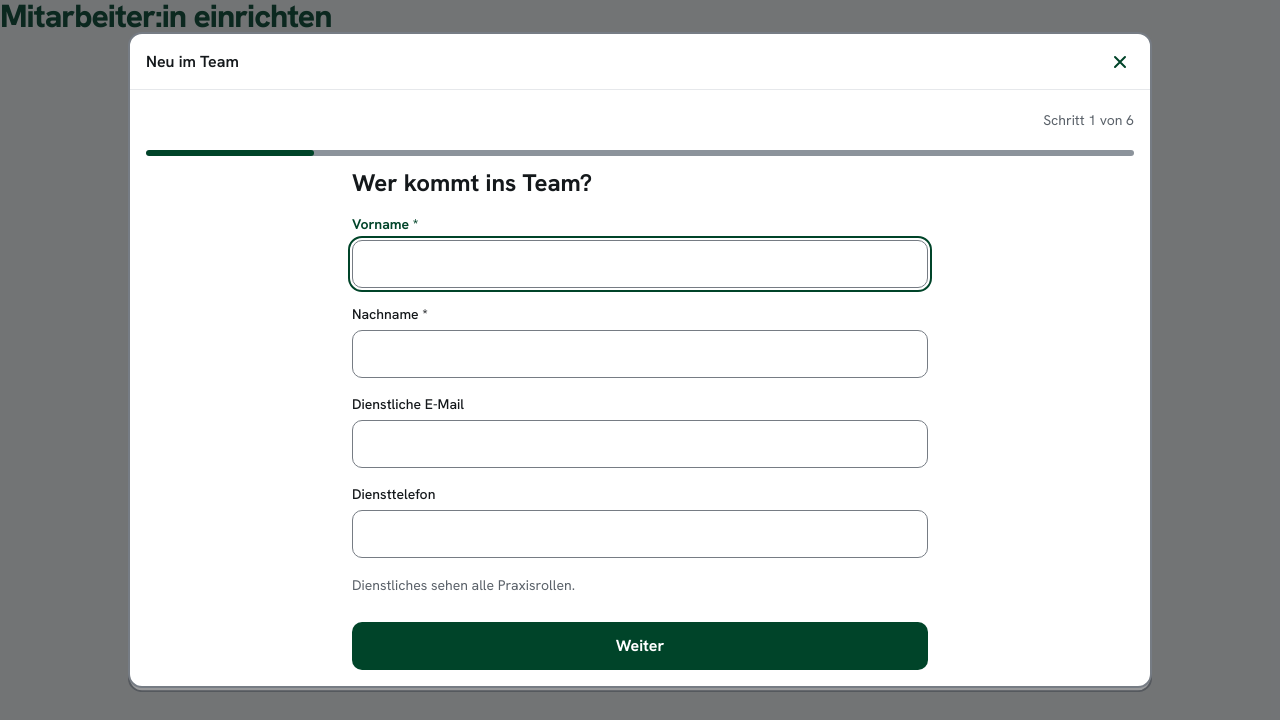
Test: NewStaffMemberPage: Neue:n Mitarbeiter:in einrichten (G5) › verlangt eine Rolle für „Weiter“ und geht mit „← Zurück“ zurück, ohne Eingaben zu verlieren
Type "Nina" into the field labelled "Vorname *" at (640, 264), box [352,240,928,288]
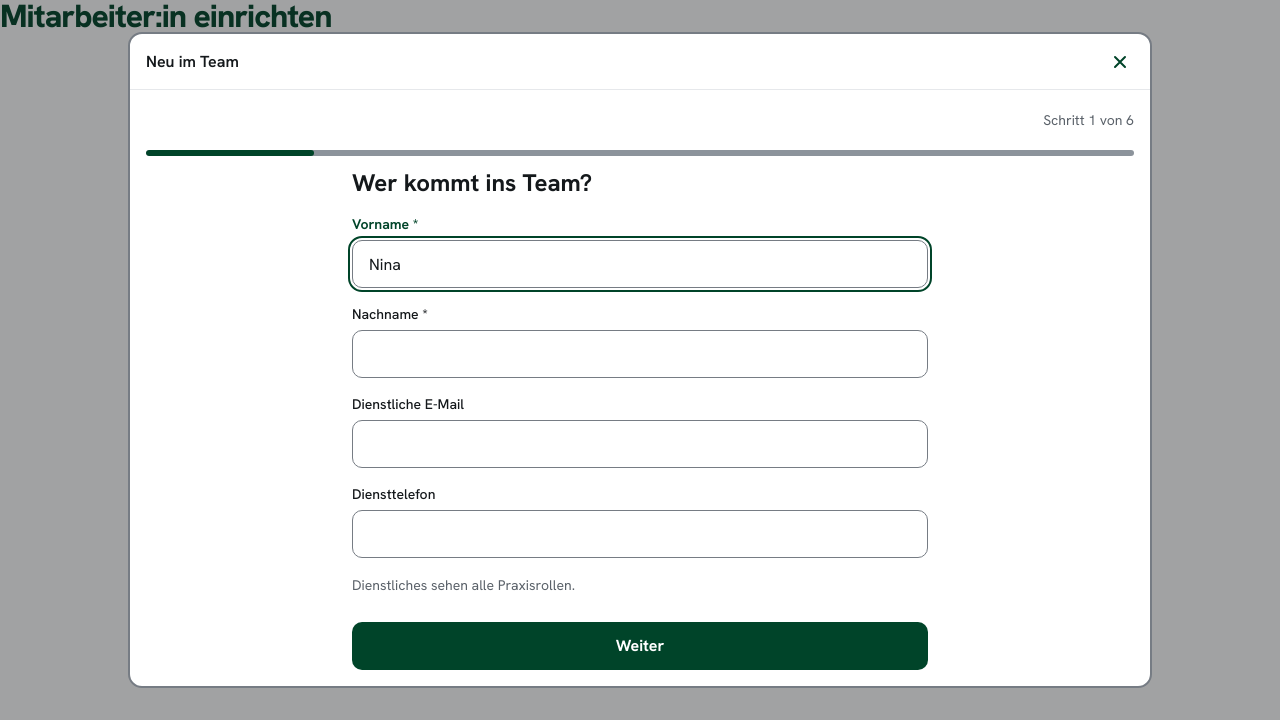
Type "Neu" into the field labelled "Nachname *" at (640, 354), box [352,330,928,378]
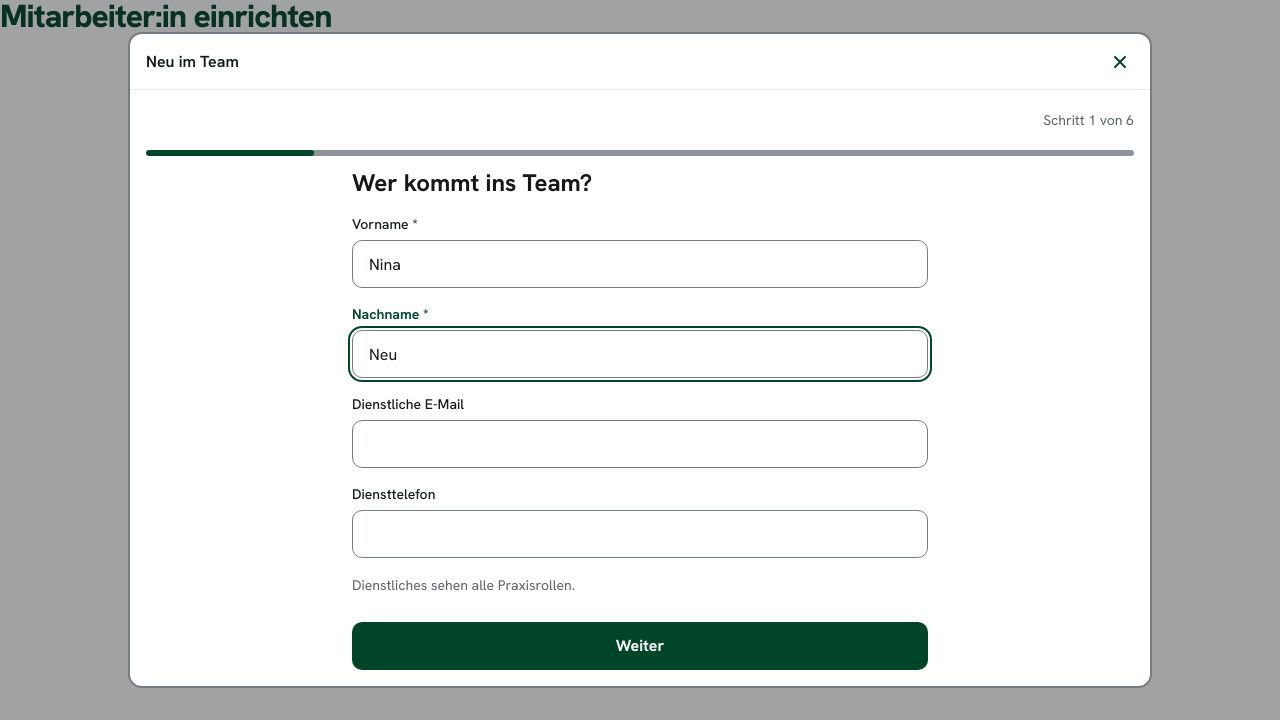
Click the button "Weiter" at (640, 646), box [352,622,928,670]
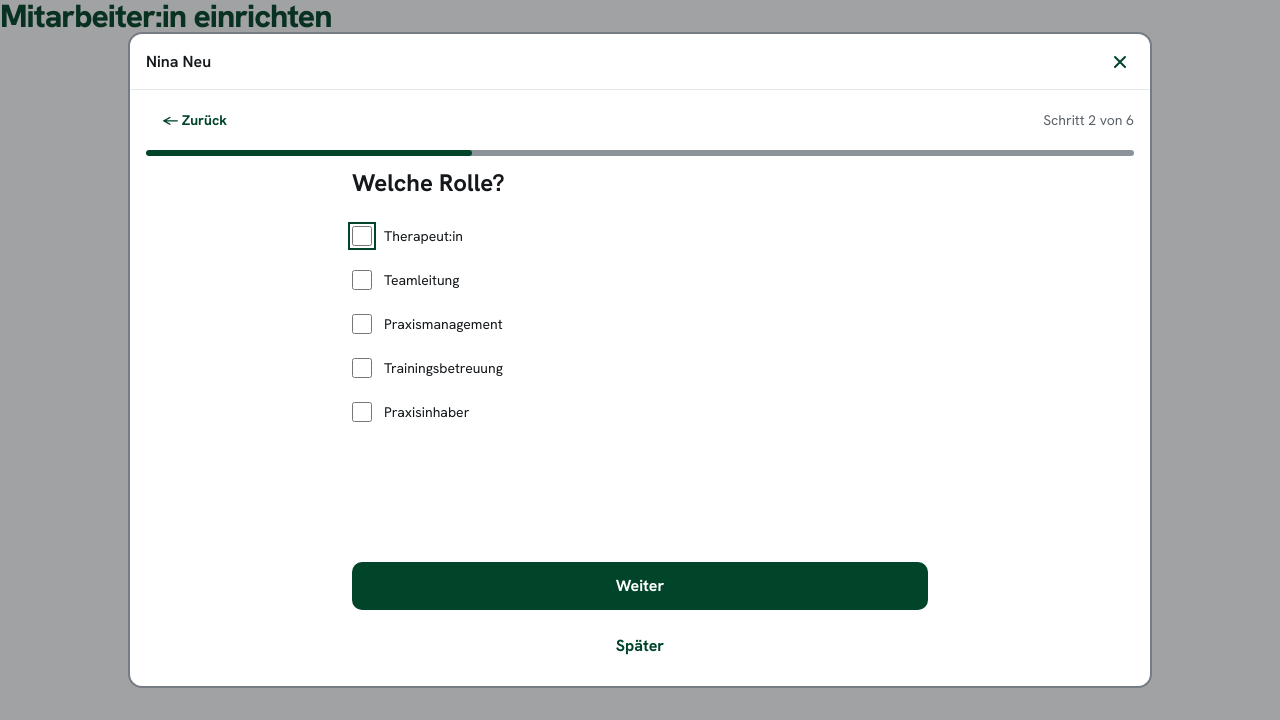
Click the button "Weiter" at (640, 586), box [352,562,928,610]
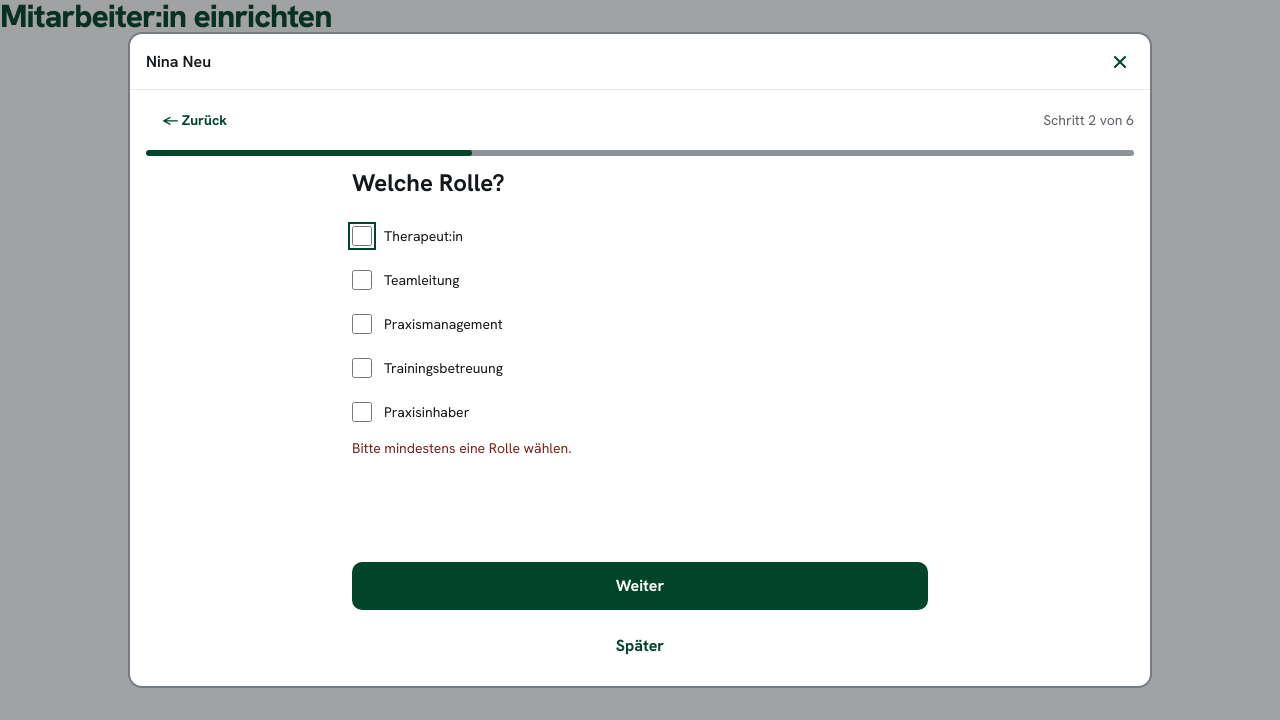
Expected: the text "Bitte mindestens eine Rolle wählen." is shown, [352,439,572,457]
Click the button "← Zurück" at (195, 120), box [146,98,243,142]
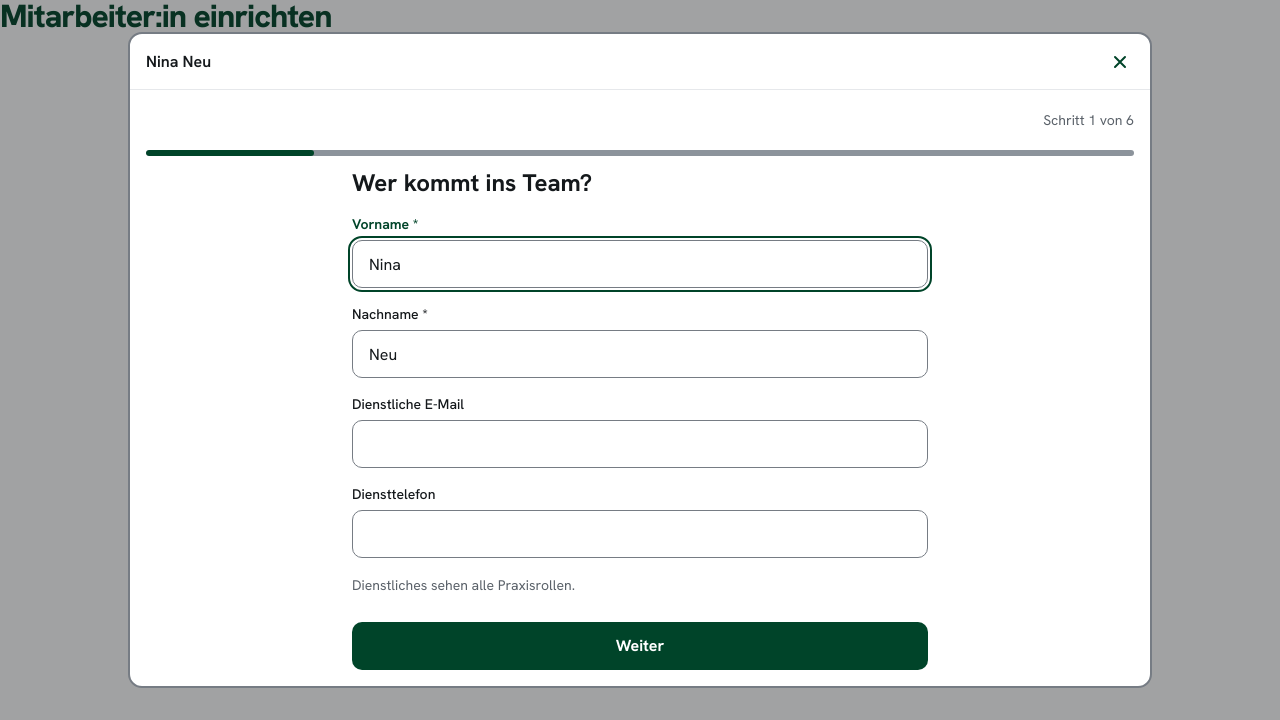
Expected: the field labelled "Vorname *" holds "Nina", [352,240,928,288]
